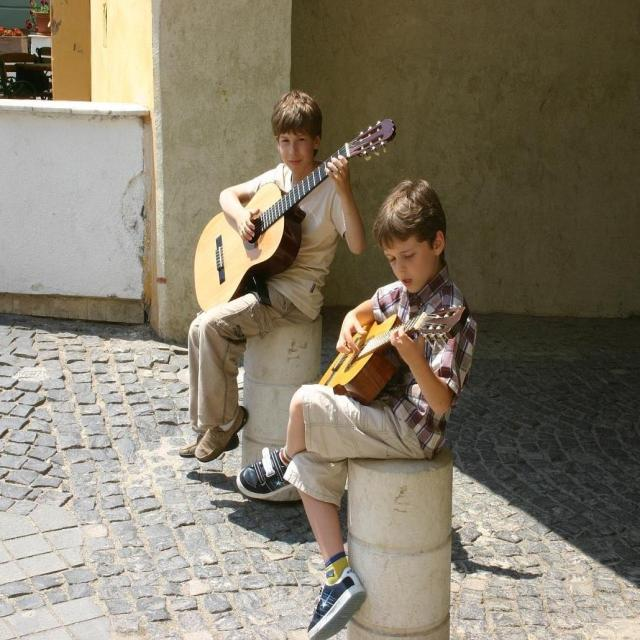guitar: (193, 116, 397, 312), (319, 302, 467, 404)
